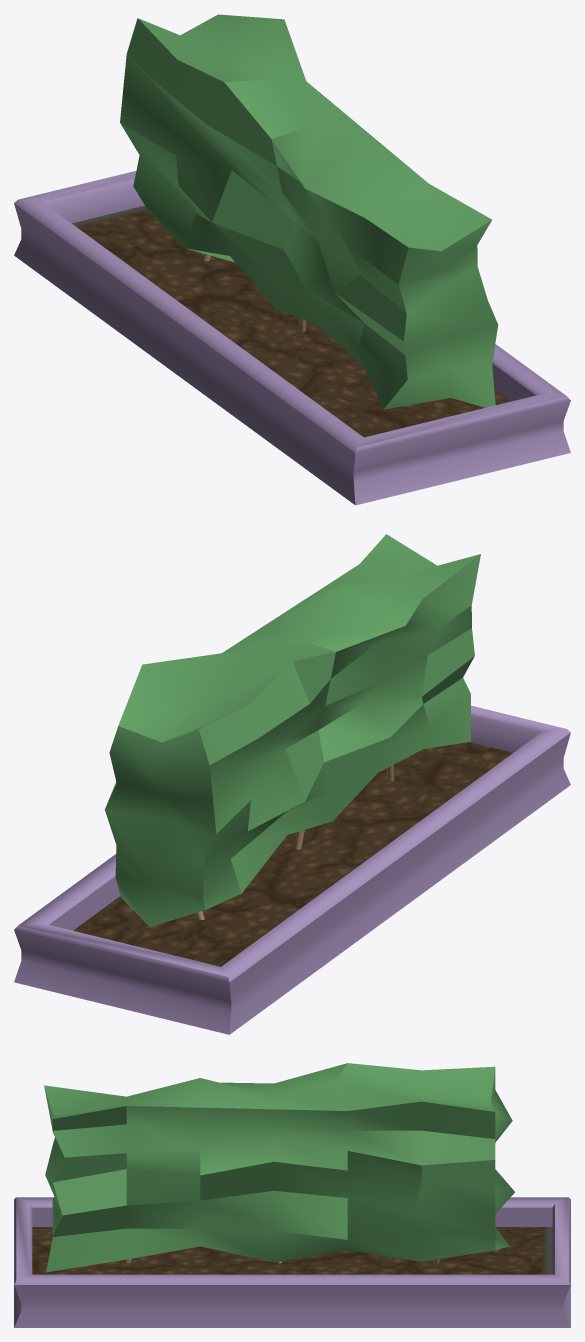
The model's file is 0_1_Plant_2.fbx.
3 views of the same model, one above another, from view 1: azimuth 30°, elevation 25°; view 2: azimuth 150°, elevation 25°; view 3: azimuth 270°, elevation 25° (orthographic). The views are drawn at different scales.
Visible parts, largest first — view 1: 0_1_Plant_1.001; view 2: 0_1_Plant_1.001; view 3: 0_1_Plant_1.001.
Part boxes in pixels (bbox=[...]): 0_1_Plant_1.001: bbox=[14, 14, 570, 505]; 0_1_Plant_1.001: bbox=[14, 534, 570, 1034]; 0_1_Plant_1.001: bbox=[14, 1063, 570, 1327].
Size of the model in its own units: 118 by 135 by 323.
